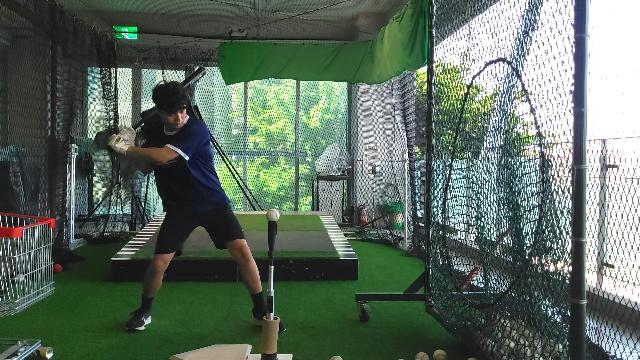baseball bat: (134, 66, 208, 128)
sports ball: (266, 208, 282, 224)
